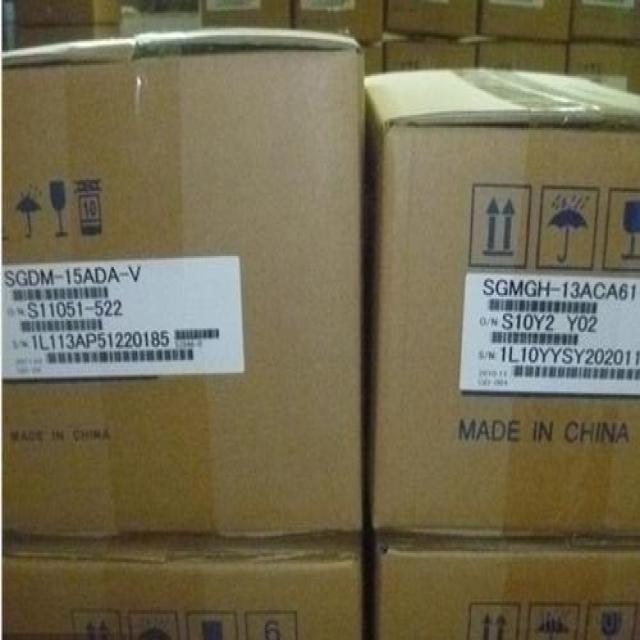Carton: (0, 48, 362, 538), (372, 126, 636, 534), (366, 72, 636, 119)
